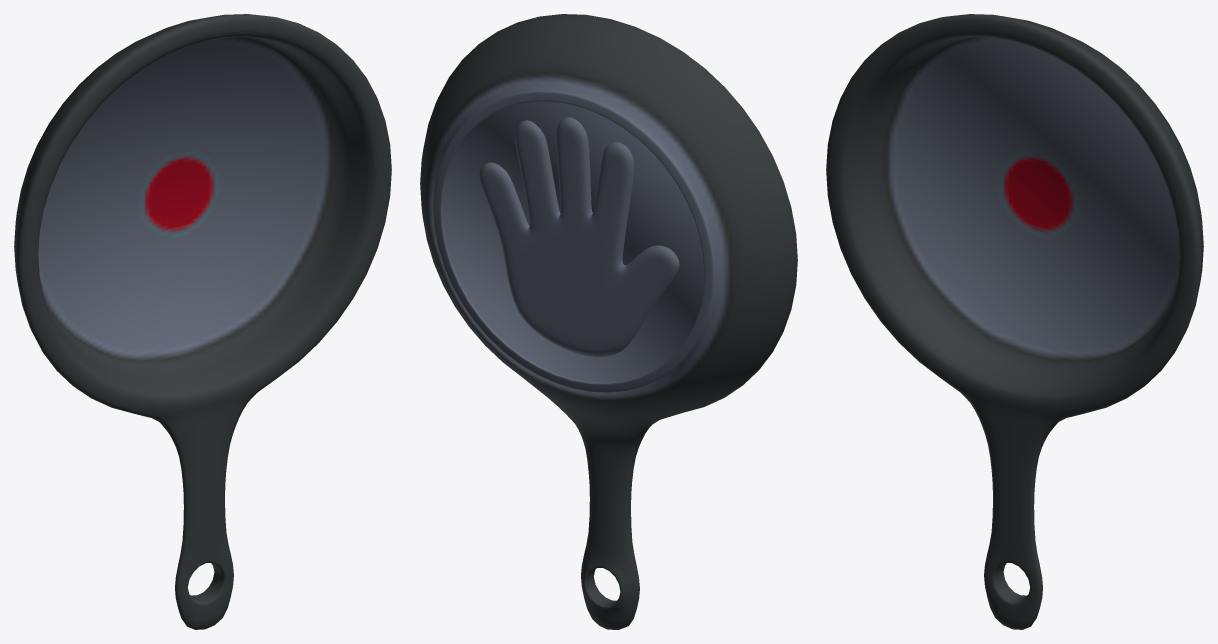
The model's file is Fan.fbx.
The picture shows the model from 3 angles, left to right: view 1: azimuth 30°, elevation 25°; view 2: azimuth 150°, elevation 25°; view 3: azimuth 330°, elevation 25°; orthographic projection.
Visible parts, largest first — view 1: Fan; view 2: Fan; view 3: Fan.
Boxes of the visible parts, bbox=[...] form: Fan: bbox=[14, 14, 391, 629]; Fan: bbox=[420, 14, 797, 629]; Fan: bbox=[826, 14, 1203, 629].
Size of the model in its own units: 133 by 207 by 26.06.
